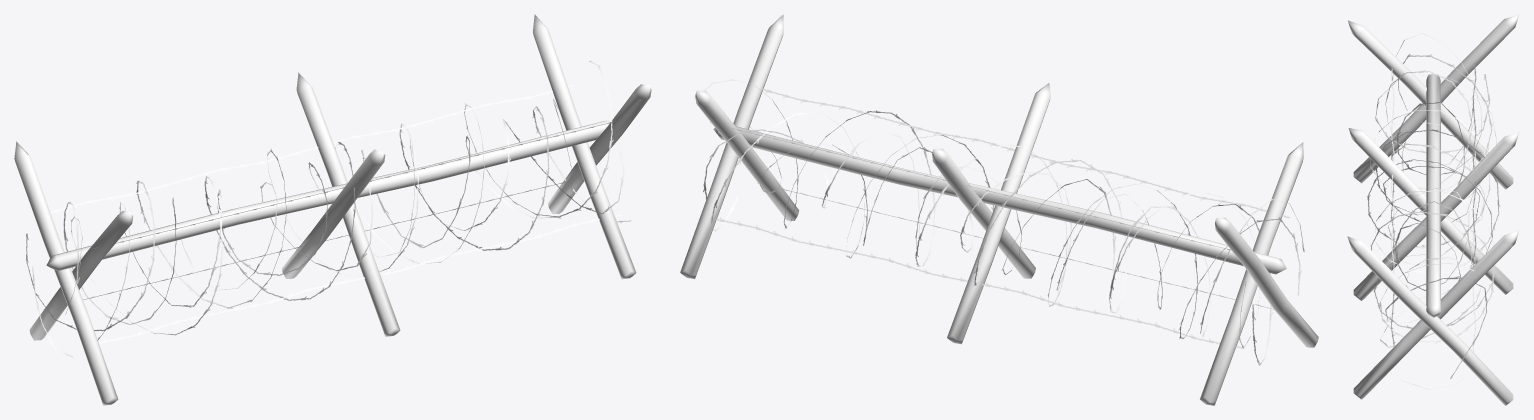
Rendered from barbed_barrier.glb.
3 renders of one model, left to right at view 1: azimuth 30°, elevation 25°; view 2: azimuth 150°, elevation 25°; view 3: azimuth 270°, elevation 25°, orthographic. The views are drawn at different scales.
Parts seen in each view (by area): view 1: barbed_barrier; view 2: barbed_barrier; view 3: barbed_barrier.
Boxes of the visible parts, left/top/right/bottom form: barbed_barrier: left=14, top=14, right=651, bottom=405; barbed_barrier: left=680, top=14, right=1318, bottom=405; barbed_barrier: left=1347, top=14, right=1519, bottom=405.
Bounding box in the file's own units: 5.16 × 1.69 × 1.57.
1 material, 1 textured.
